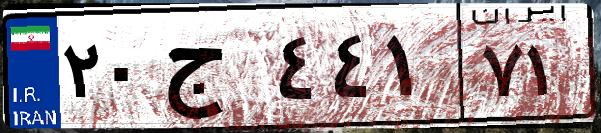0: (110, 28, 158, 98)
1: (385, 28, 445, 110), (525, 38, 570, 115)
2: (57, 26, 110, 100)
4: (270, 28, 330, 110), (330, 28, 385, 110)
7: (475, 38, 525, 113)
ج: (158, 20, 270, 120)
